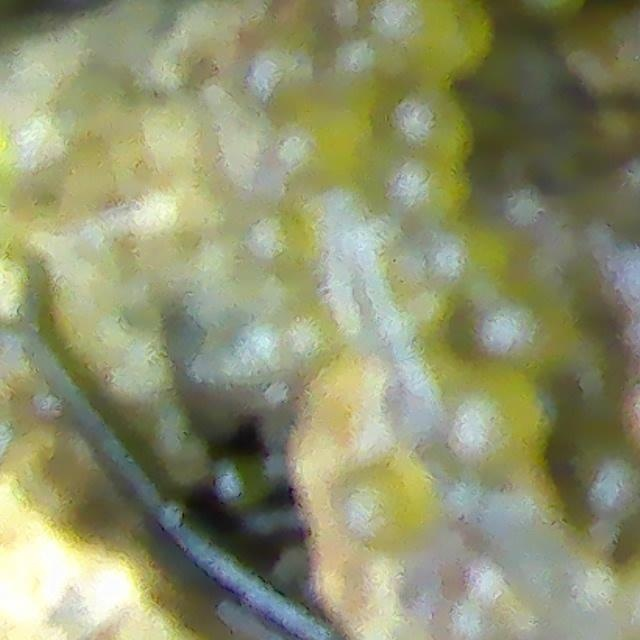SeaGrape: (449, 358, 560, 475), (342, 466, 436, 545), (274, 110, 357, 190), (376, 0, 464, 66), (394, 99, 469, 162), (388, 155, 461, 214)
